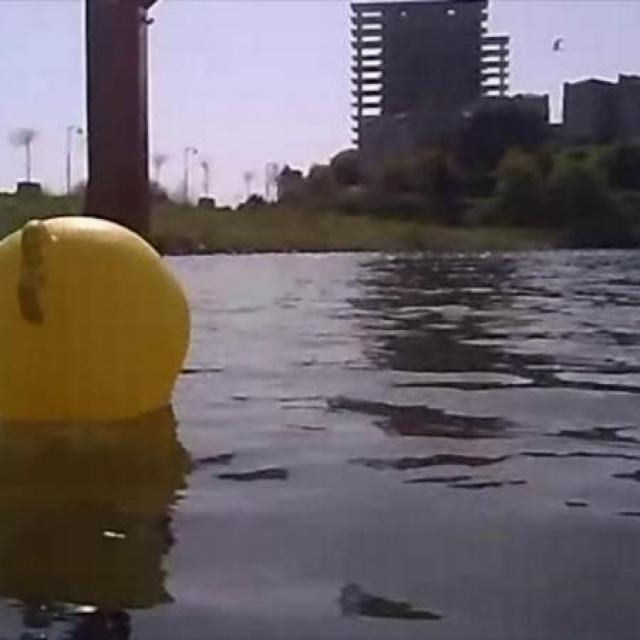buoy: (0, 212, 196, 413)
